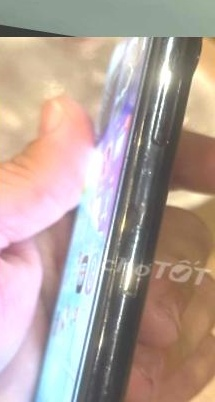scratch: (85, 215, 170, 402), (117, 137, 176, 217), (153, 37, 211, 70), (170, 73, 194, 99)
